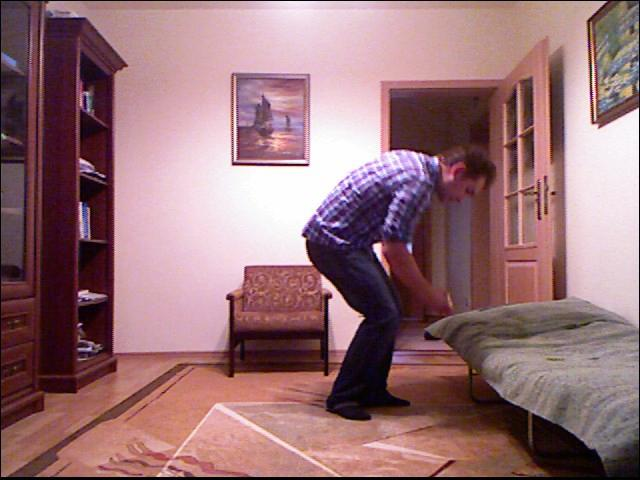bending: (297, 126, 507, 433)
